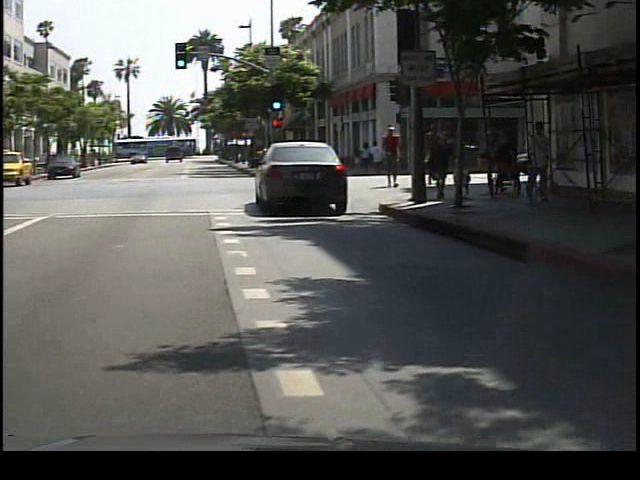person: (383, 123, 410, 192)
